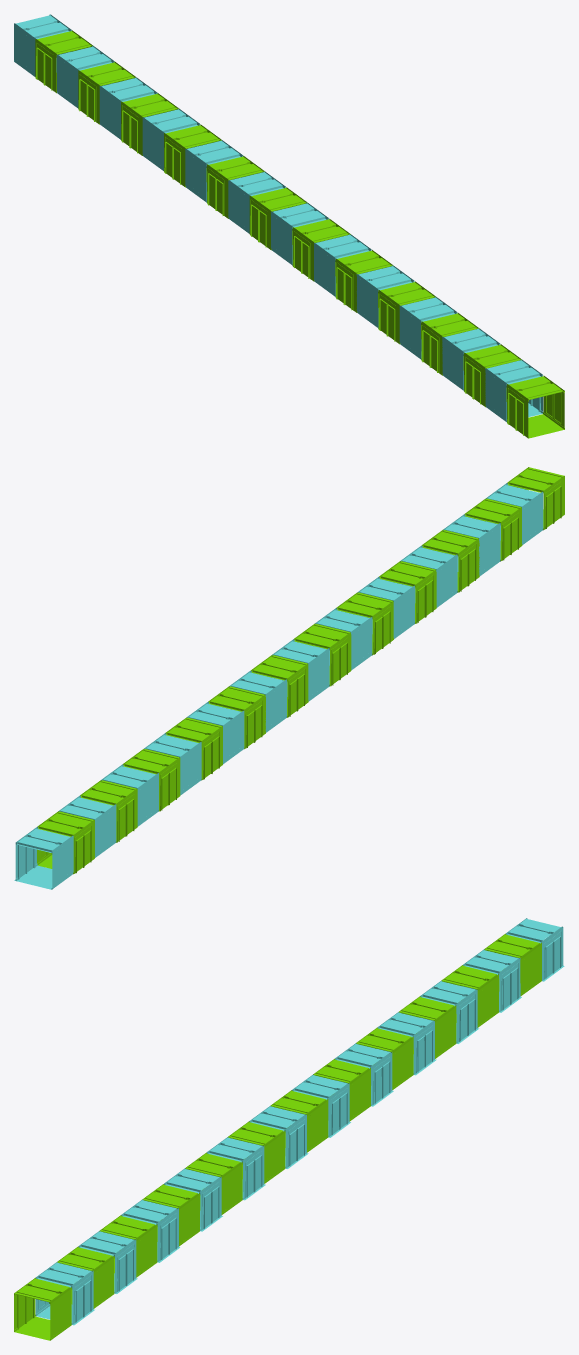
The model's file is Engine_FinalProject_AshleyMacNutt_09112025.fbx.
3 views of the same model, one above another, from view 1: azimuth 30°, elevation 25°; view 2: azimuth 150°, elevation 25°; view 3: azimuth 330°, elevation 25° (orthographic).
Parts seen in each view (by area): view 1: Hotel_Cube_1, Hotel_Cube_2; view 2: Hotel_Cube_1, Hotel_Cube_2; view 3: Hotel_Cube_1, Hotel_Cube_2.
Boxes of the visible parts, x1,y1,x2,y2 form: Hotel_Cube_1: [35, 30, 564, 438]; Hotel_Cube_2: [14, 14, 543, 422]; Hotel_Cube_1: [37, 467, 564, 874]; Hotel_Cube_2: [14, 483, 543, 889]; Hotel_Cube_1: [14, 933, 541, 1340]; Hotel_Cube_2: [35, 918, 564, 1325].
Size of the model in its own units: 214 by 202 by 4806.
